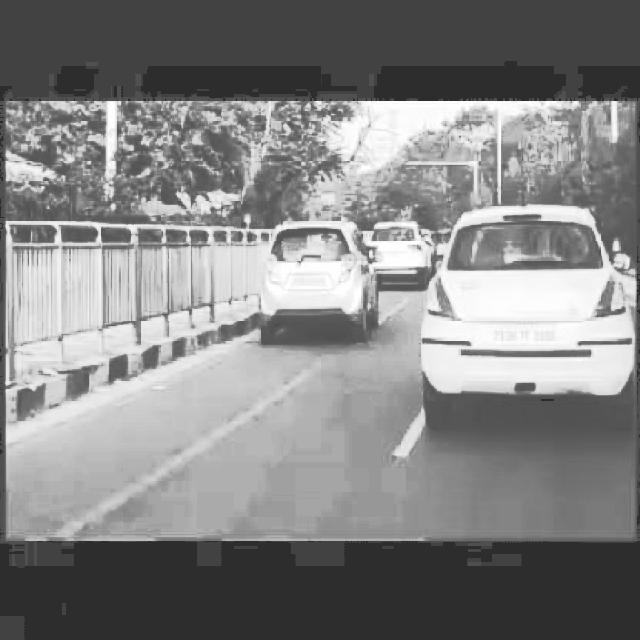Car: (403, 205, 638, 409), (263, 218, 387, 341), (374, 198, 439, 298)
